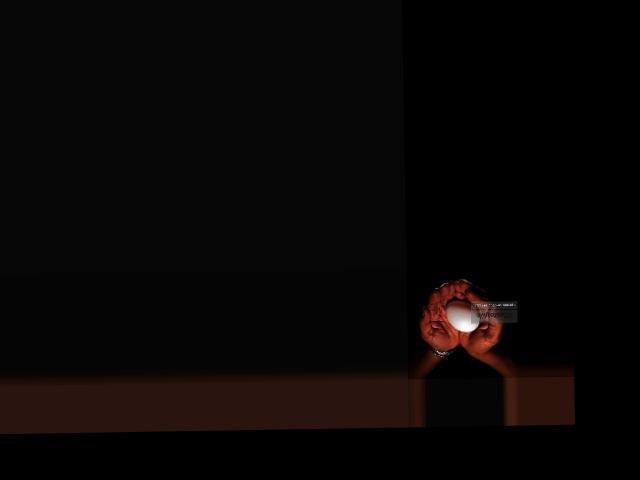egg: (445, 299, 479, 332)
